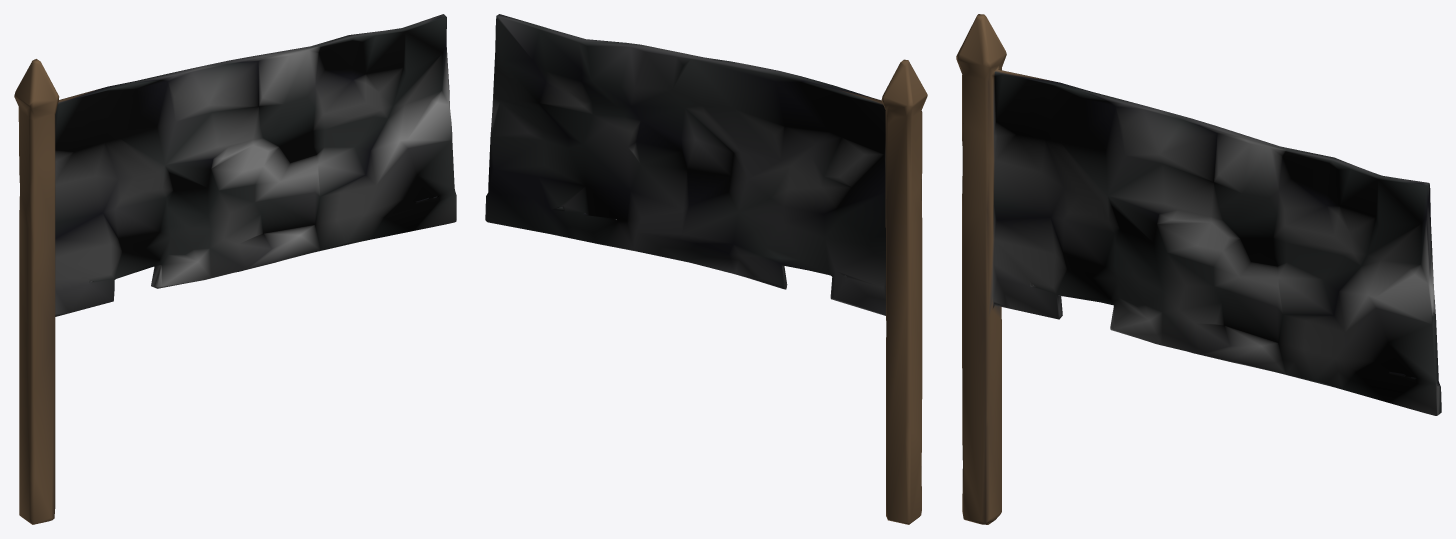
The model's file is gen3d-checkered-flag-lod1.glb.
3 views of the same model, side by side, from view 1: azimuth 30°, elevation 25°; view 2: azimuth 150°, elevation 25°; view 3: azimuth 330°, elevation 25° (orthographic). The views are drawn at different scales.
Parts seen in each view (by area): view 1: part_0; view 2: part_0; view 3: part_0.
Boxes of the visible parts, x1,y1,x2,y2 form: part_0: (14, 14, 456, 524); part_0: (485, 14, 927, 524); part_0: (956, 14, 1441, 524).
Size of the model in its own units: 0.9898 by 0.9991 by 0.0728.
